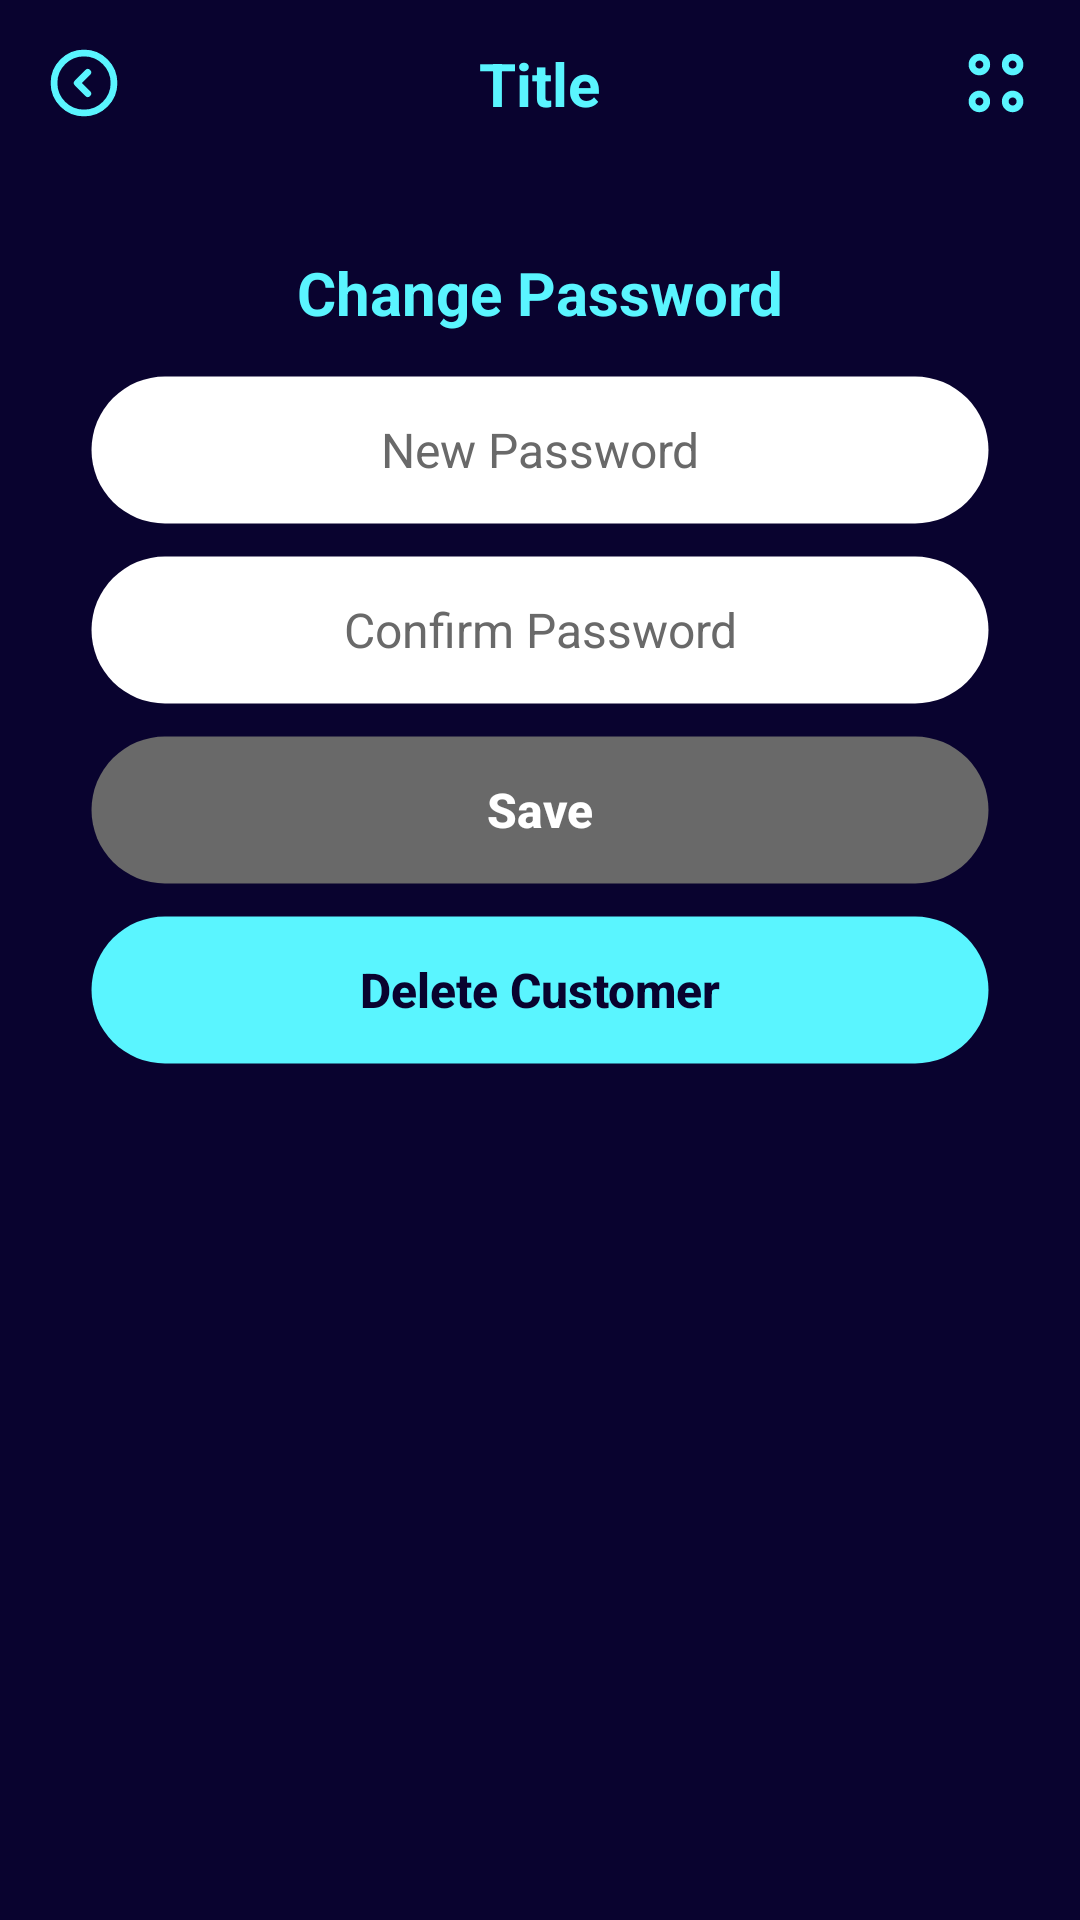

Locate icon controls on the screen. Image size 1080 × 1920, boxes as box(x1, y1, x2, y2).
arrow circle left: box(50, 49, 118, 117)
